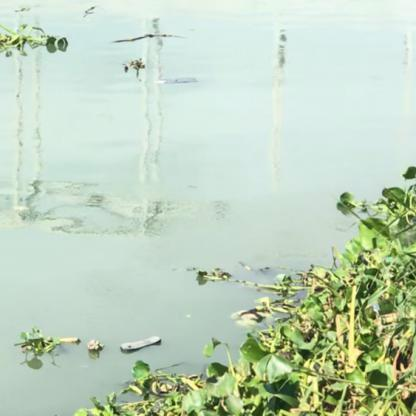Metal: (57, 335, 84, 347)
Plastic: (119, 331, 164, 356)
